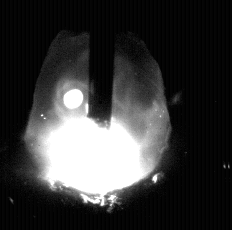arame: (89, 0, 113, 130)
poca: (25, 0, 169, 230)
